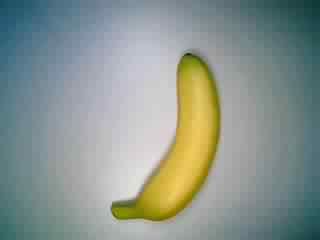banana: (108, 51, 224, 226)
